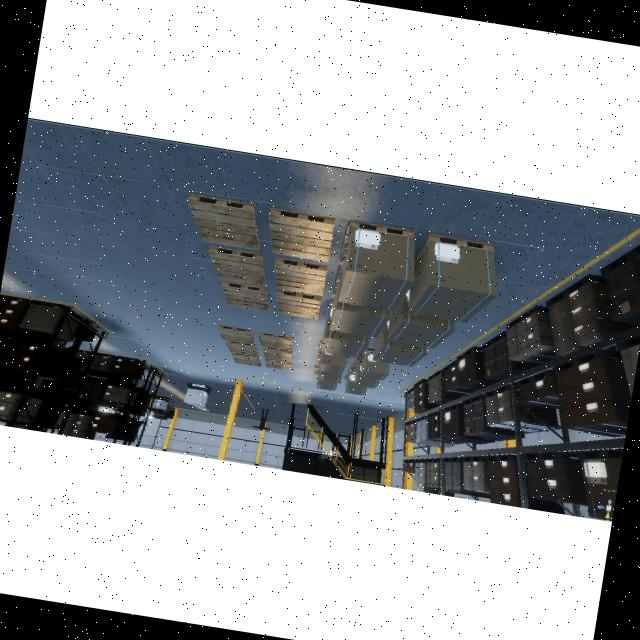wooden_pallet: (185, 194, 261, 250), (268, 208, 336, 262), (339, 220, 414, 266), (414, 233, 495, 265), (207, 246, 267, 286), (275, 257, 328, 296)
